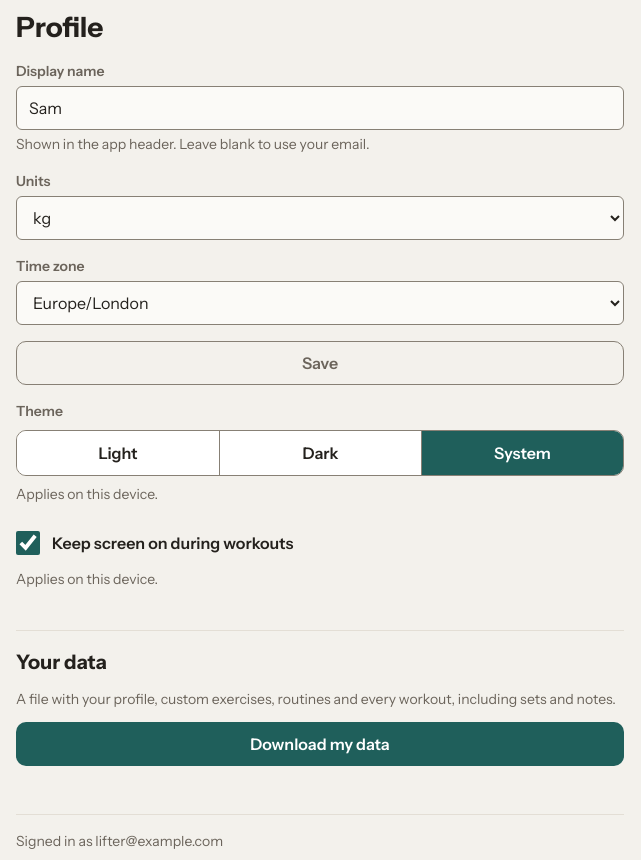
Test case: 12 AC23 — accessibility › one export status region on the screen while the delete dialog is closed (BL-15)
The width and height of the screenshot is (641, 860).
Click the button "Download my data" at (320, 744), box [16,722,624,766]
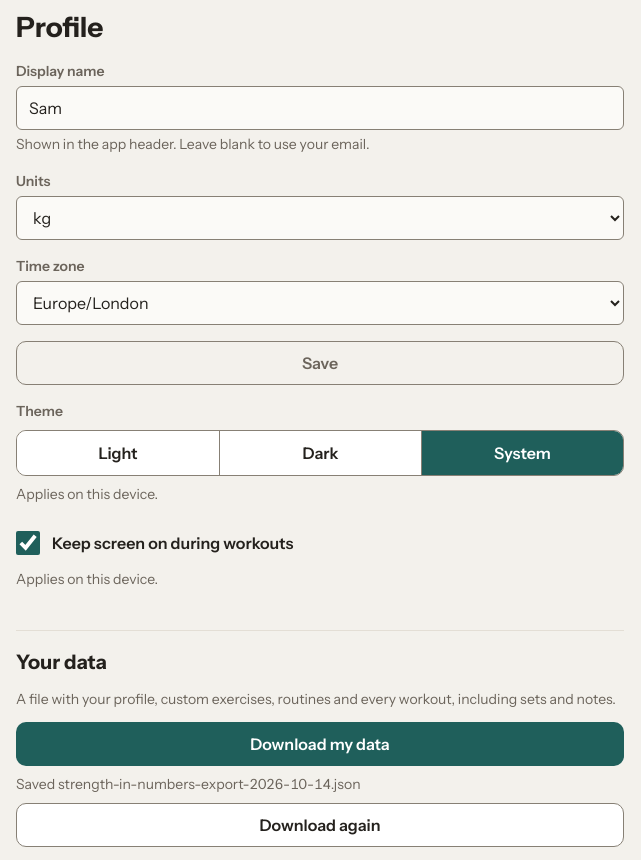
Check: the message shows "Saved", box [16,775,361,793]
Check: the text "Saved strength-in-numbers-export-2026-10-14.json" is shown once, box [16,775,361,793]
Check: the number of messages is 1, box [16,775,361,793]
